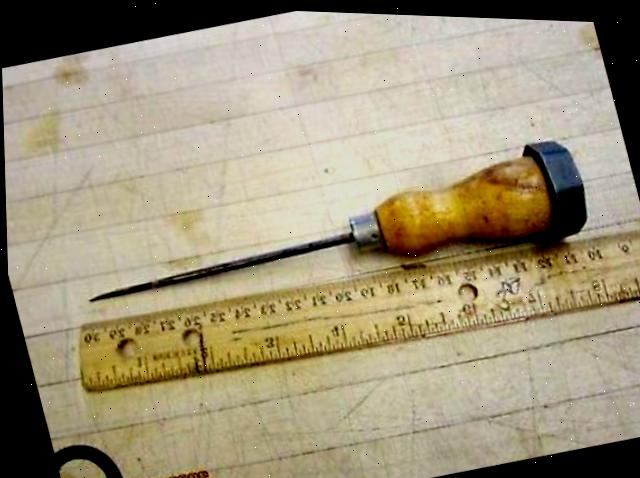ice pick: (67, 116, 595, 341)
